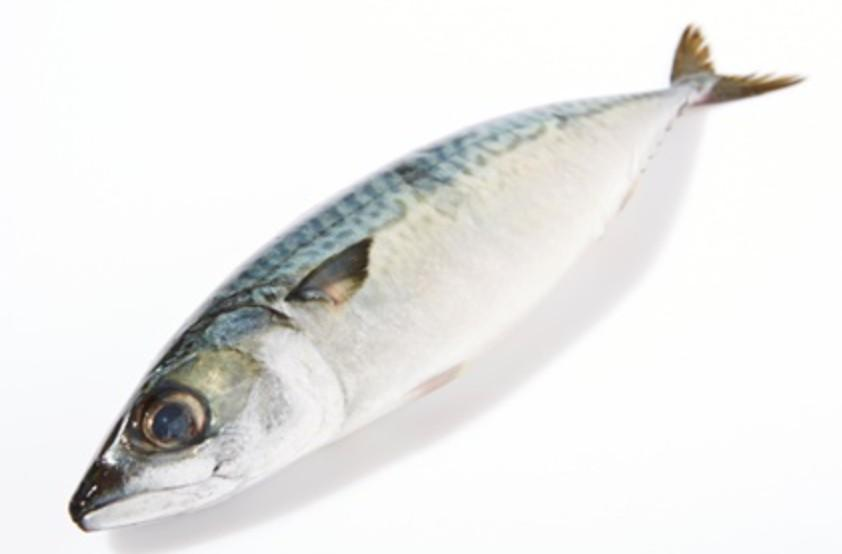fish: (69, 25, 802, 530)
